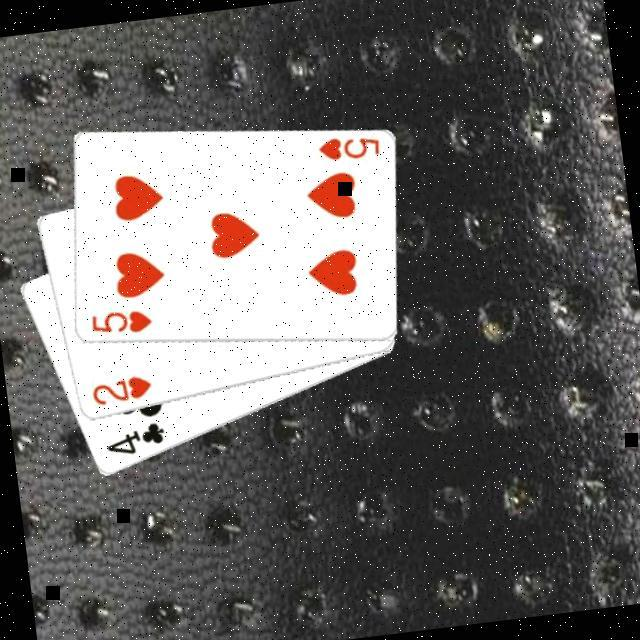2H: (85, 371, 154, 409)
4C: (99, 417, 168, 460)
5H: (312, 129, 382, 166), (85, 304, 154, 341)
